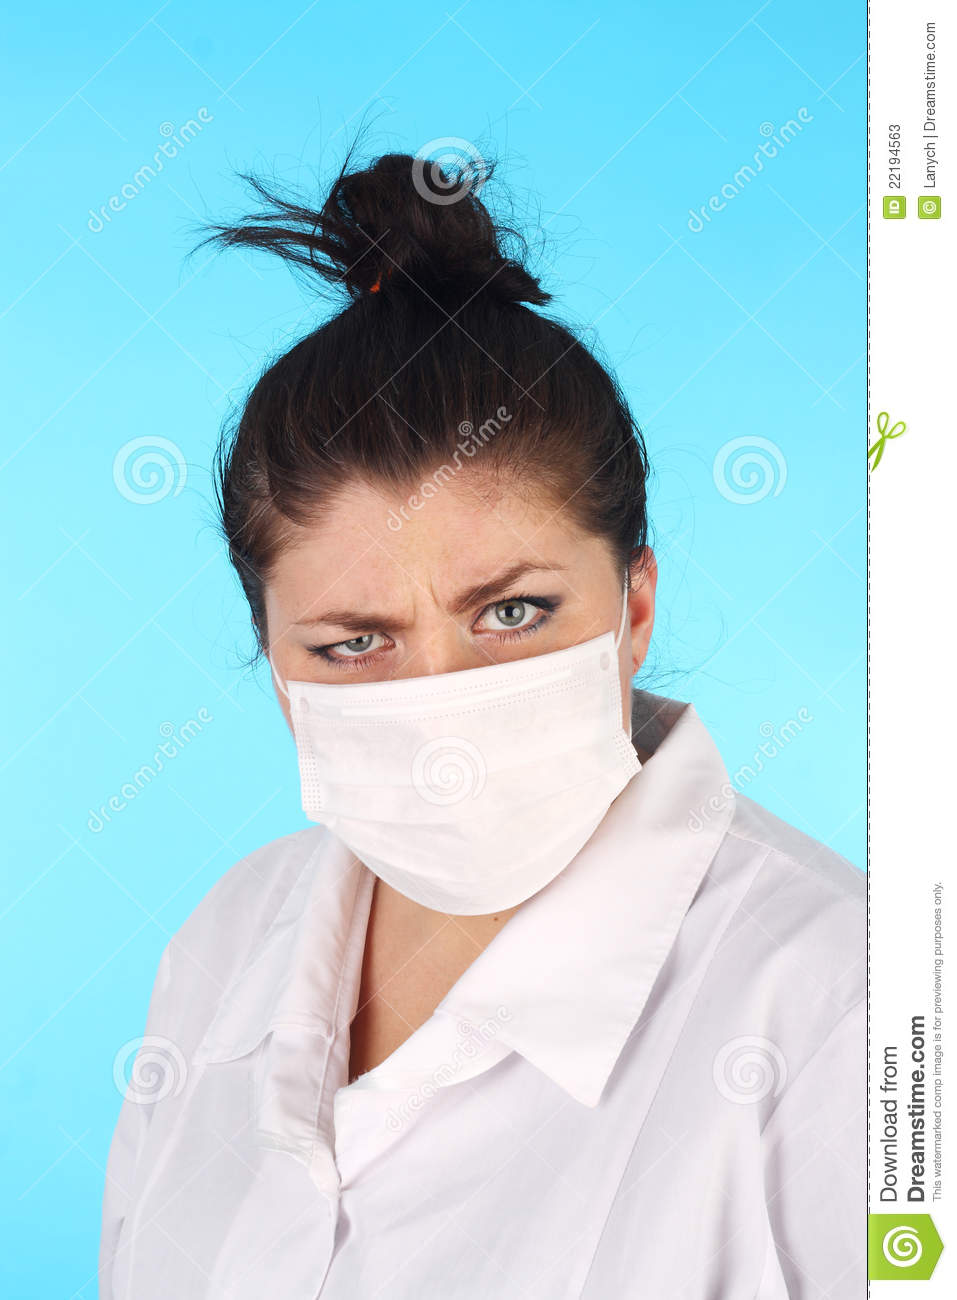mask: (289, 665, 638, 911)
